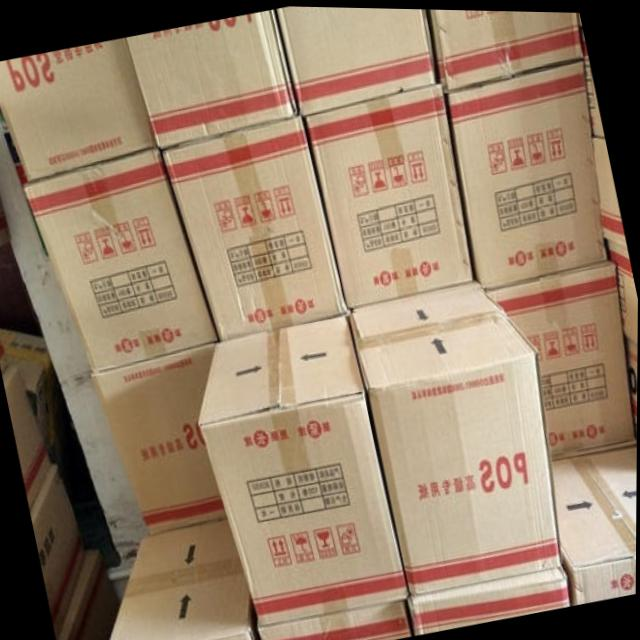box: (199, 305, 409, 626), (348, 275, 560, 592), (23, 147, 219, 370), (161, 112, 348, 337), (441, 57, 607, 285), (304, 85, 474, 307), (485, 258, 637, 456), (89, 340, 227, 530), (125, 7, 303, 147), (0, 38, 158, 181), (111, 517, 262, 640), (275, 5, 439, 117), (552, 440, 638, 600), (426, 7, 583, 86), (408, 563, 572, 631), (32, 461, 88, 640), (0, 328, 57, 462), (3, 364, 50, 511), (257, 597, 415, 640), (58, 549, 121, 640), (592, 134, 628, 249), (578, 10, 605, 135), (608, 239, 638, 345), (624, 333, 638, 438)
